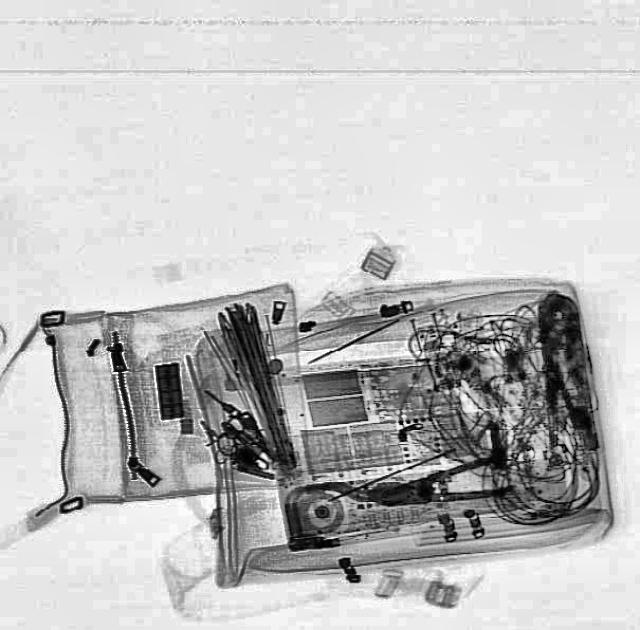Pliers: (526, 288, 600, 456), (372, 451, 514, 521)
